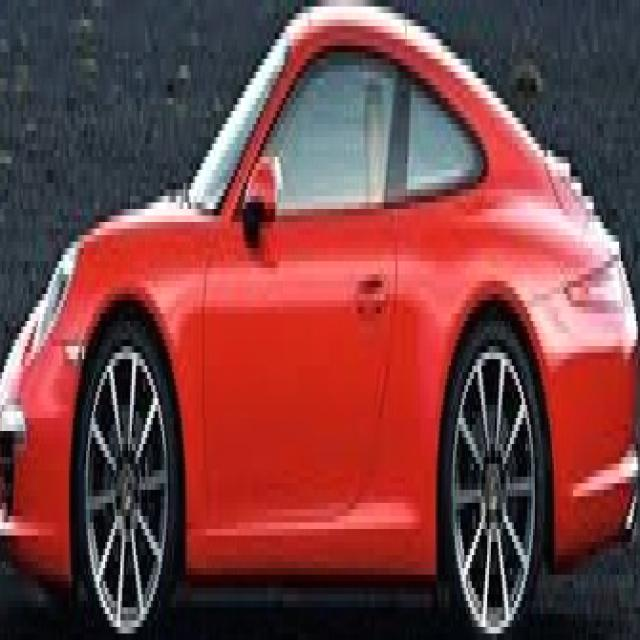red: (2, 18, 640, 602)
